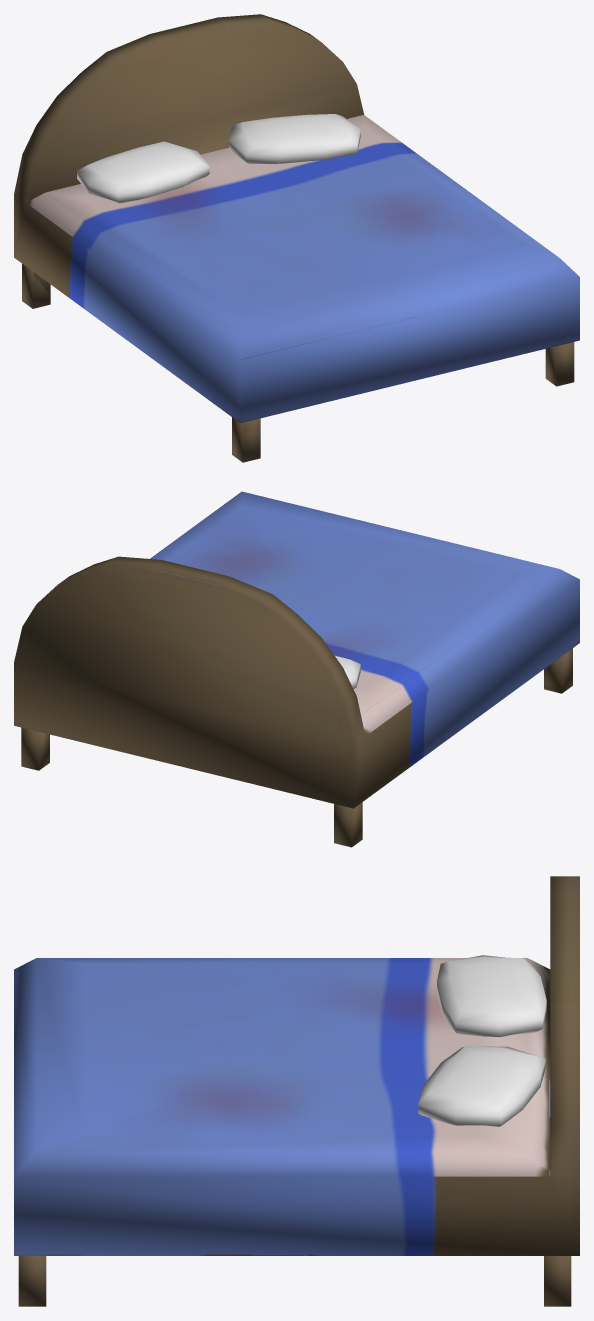
Rendered from bed.fbx.
3 renders of one model, top to bottom at view 1: azimuth 30°, elevation 25°; view 2: azimuth 150°, elevation 25°; view 3: azimuth 270°, elevation 25°, orthographic. The views are drawn at different scales.
Parts seen in each view (by area): view 1: Cube, Cube.002, Cube.001; view 2: Cube; view 3: Cube, Cube.002, Cube.001.
Part boxes in pixels (bbox=[...]): Cube: bbox=[14, 14, 579, 462]; Cube.002: bbox=[229, 114, 360, 163]; Cube.001: bbox=[77, 141, 209, 203]; Cube: bbox=[14, 491, 579, 847]; Cube: bbox=[14, 876, 579, 1306]; Cube.002: bbox=[418, 1046, 545, 1126]; Cube.001: bbox=[437, 955, 546, 1036].
Size of the model in its own units: 168 by 110 by 194.
